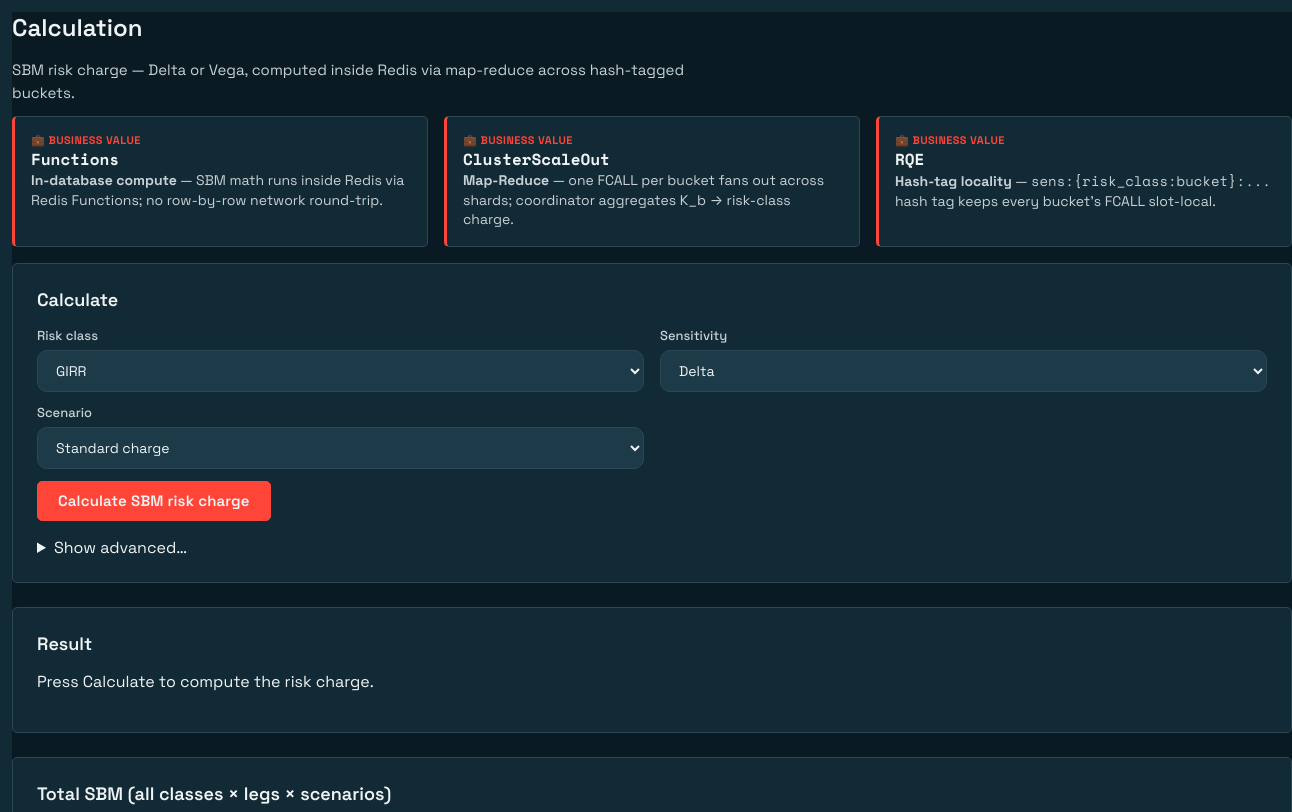
Test: <CalcPanel /> › Wave 5.96F: wallclock-badge cache-hit wording › cache miss leaves the chip text unchanged
The width and height of the screenshot is (1292, 812).
Click the button "Calculate SBM risk charge" at (154, 501), box top-left (37, 481), bottom-right (271, 521)
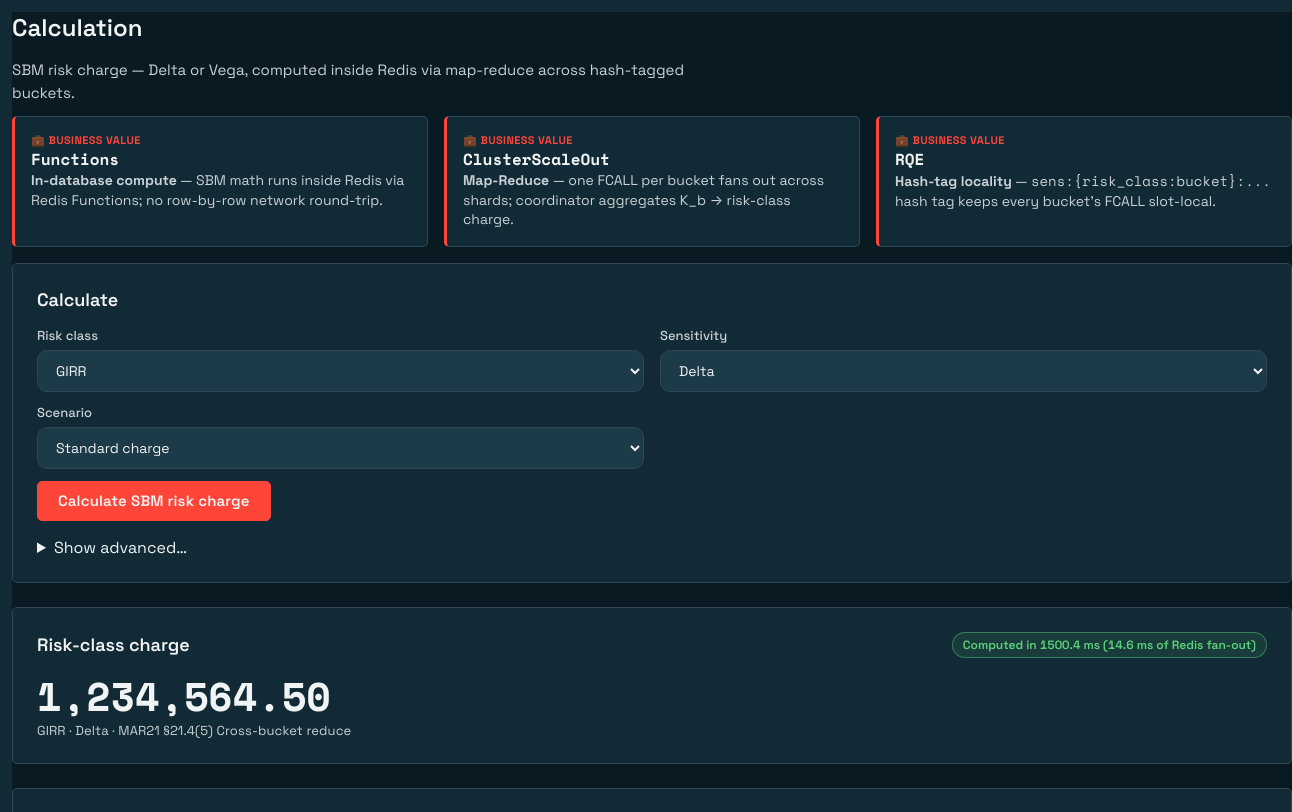
Check: the text with test id "wallclock-badge" reads "Computed in 1500.4 ms (14.6 ms of Redis fan-out)", box top-left (963, 637), bottom-right (1256, 653)
